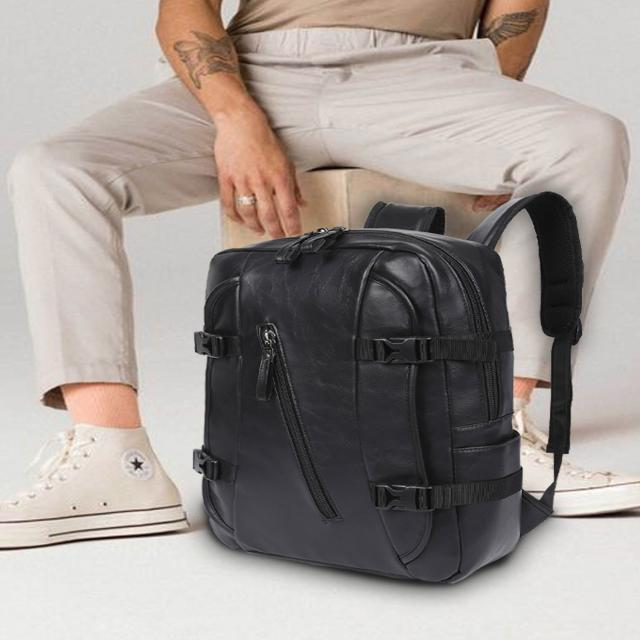backpack: (193, 192, 589, 586)
